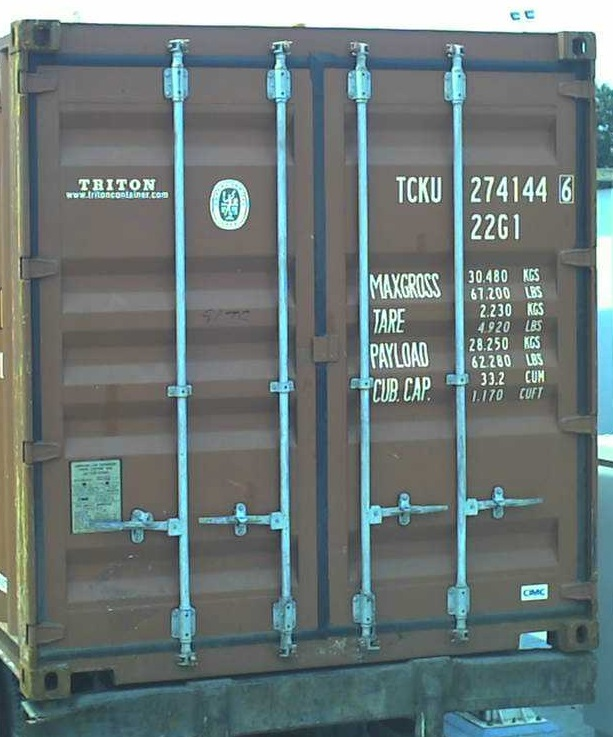container_door: (15, 12, 598, 697)
